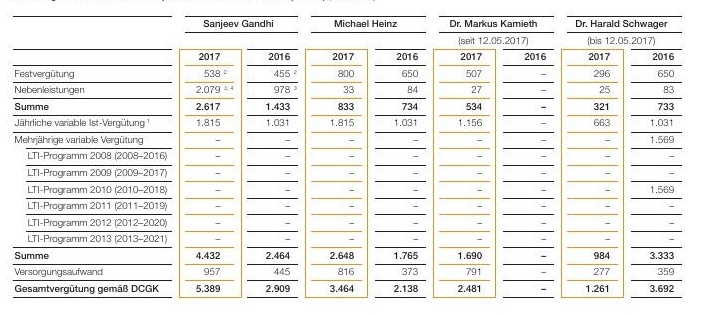table: (0, 0, 704, 315)
